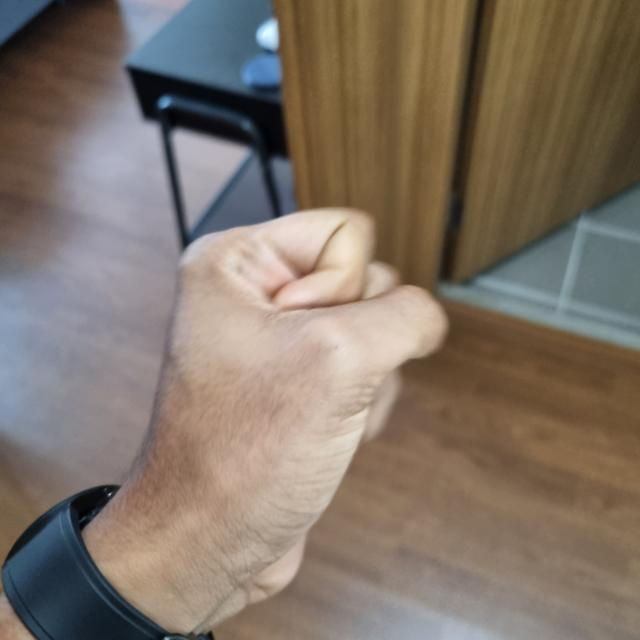Rock: (137, 208, 444, 583)
